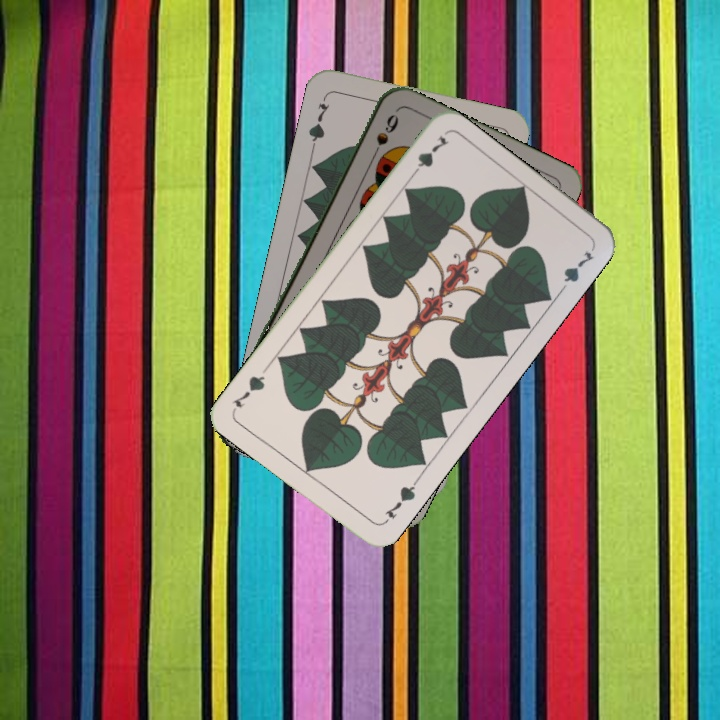G7: (405, 131, 452, 182), (379, 476, 421, 526), (304, 91, 333, 150)
S9: (366, 110, 401, 164)
